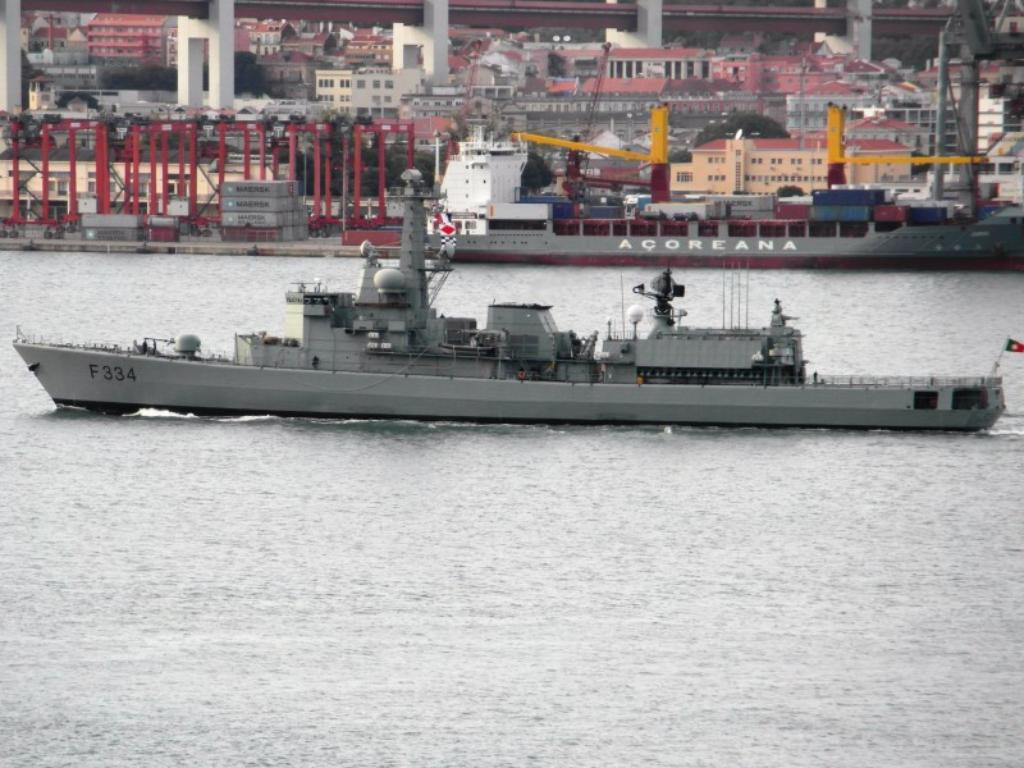Warship: (10, 155, 1004, 437)
